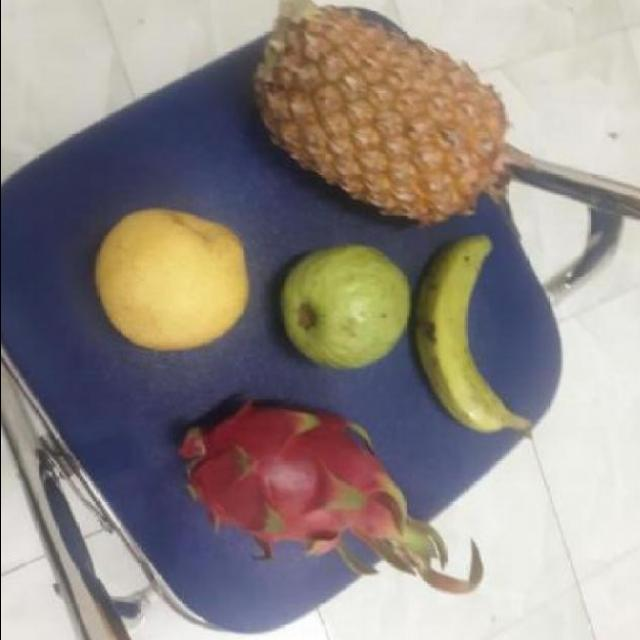banana: (410, 225, 518, 425)
dragon fruit: (178, 392, 397, 570)
guava: (280, 237, 406, 369)
pear: (97, 197, 250, 351)
pineapple: (250, 2, 502, 214)
